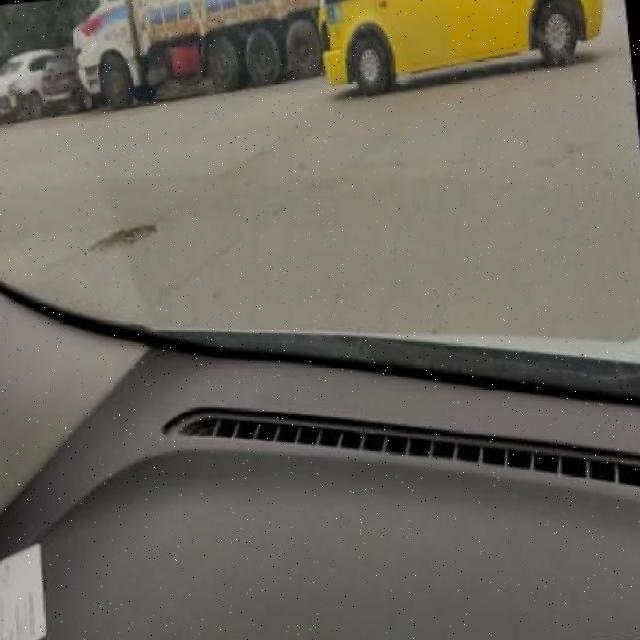pothole: (85, 226, 157, 253)
